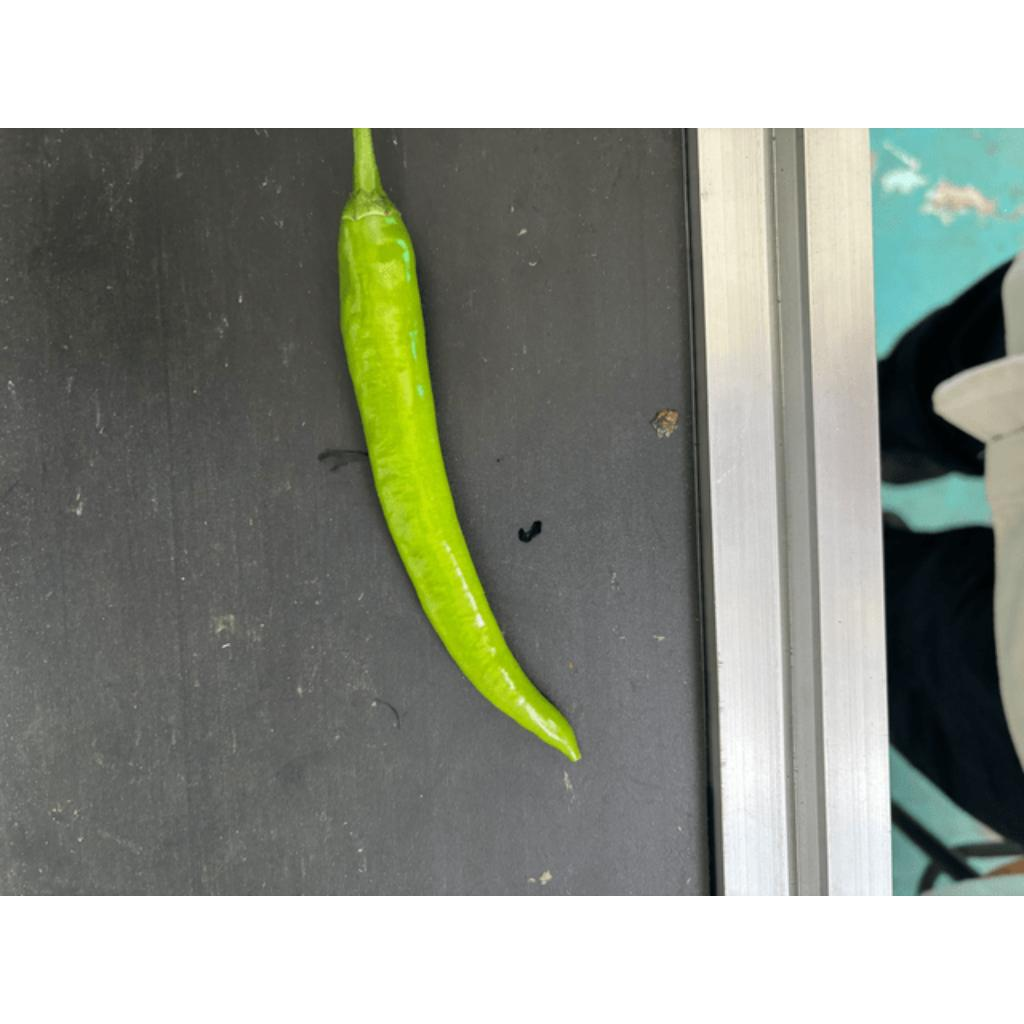chili: (335, 195, 584, 763)
